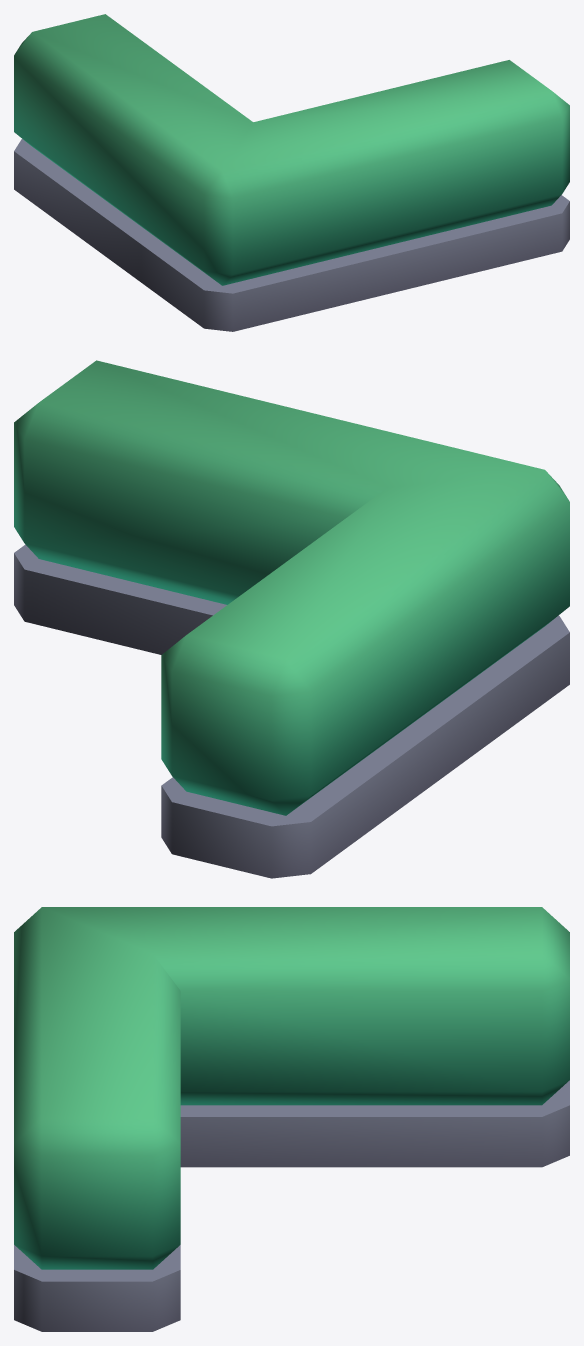
The model's file is hedge_corner.glb.
3 renders of one model, top to bottom at view 1: azimuth 30°, elevation 25°; view 2: azimuth 150°, elevation 25°; view 3: azimuth 270°, elevation 25°, orthographic. The views are drawn at different scales.
Visible parts, largest first — view 1: hedge-corner; view 2: hedge-corner; view 3: hedge-corner.
Boxes of the visible parts, box(x1,y1,x2,y2) form: hedge-corner: box(14, 14, 569, 331); hedge-corner: box(14, 360, 569, 878); hedge-corner: box(14, 907, 569, 1331).
Size of the model in its own units: 1 by 0.4 by 1.
1 material, 1 textured.
